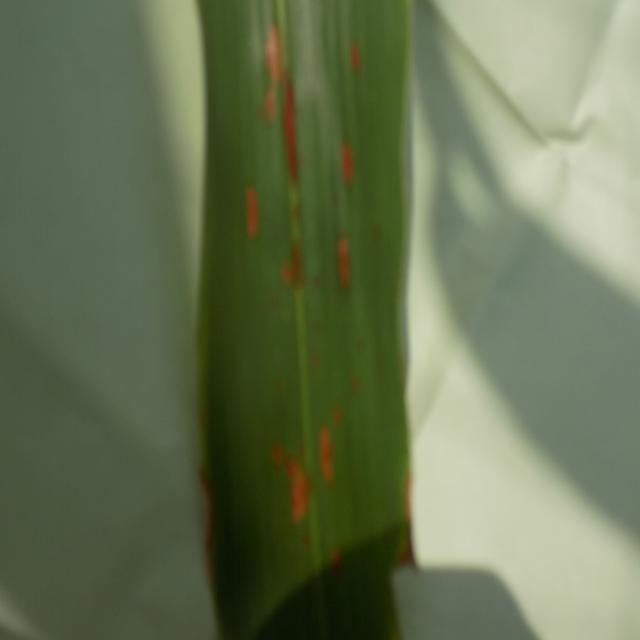millet_rust: (192, 0, 412, 640)
